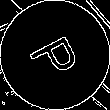P_NE: (24, 27, 86, 83)
